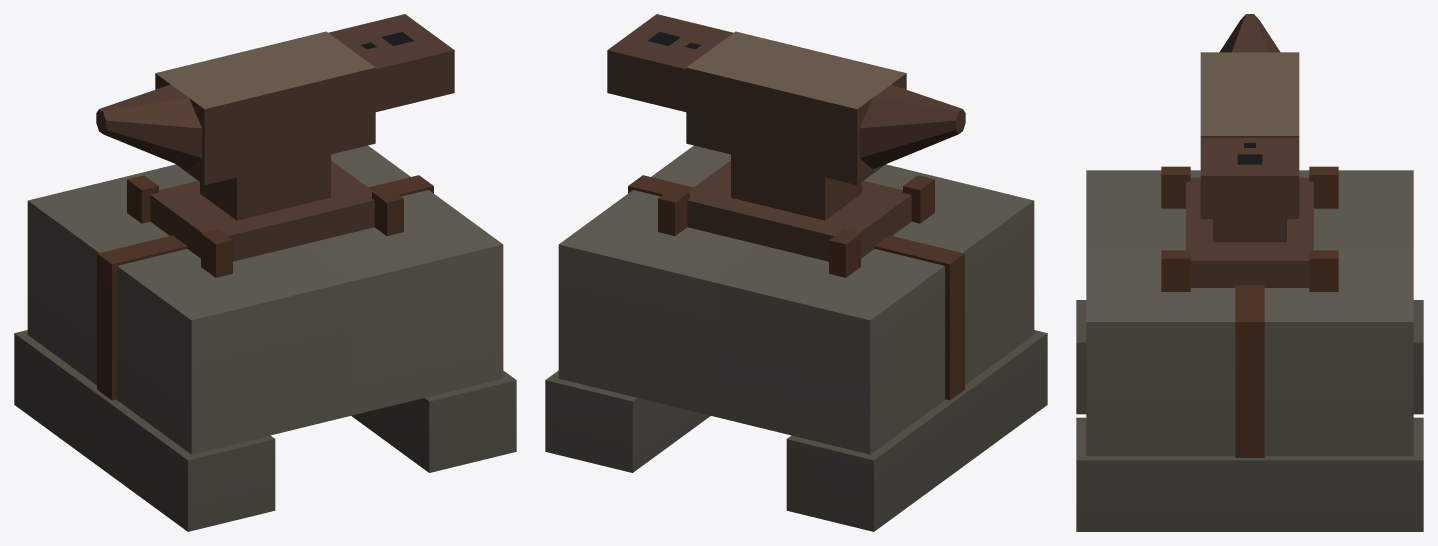
The model's file is tool.anvil.rust.glb.
3 renders of one model, left to right at view 1: azimuth 30°, elevation 25°; view 2: azimuth 150°, elevation 25°; view 3: azimuth 270°, elevation 25°, orthographic.
Visible parts, largest first — view 1: tool_anvil_rust; view 2: tool_anvil_rust; view 3: tool_anvil_rust.
Boxes of the visible parts, box(x1,y1,x2,y2) form: tool_anvil_rust: box(14, 14, 516, 531); tool_anvil_rust: box(545, 14, 1047, 531); tool_anvil_rust: box(1076, 14, 1423, 531).
Size of what is drawn, in the model's own units: 0.769 by 0.8 by 0.704.
